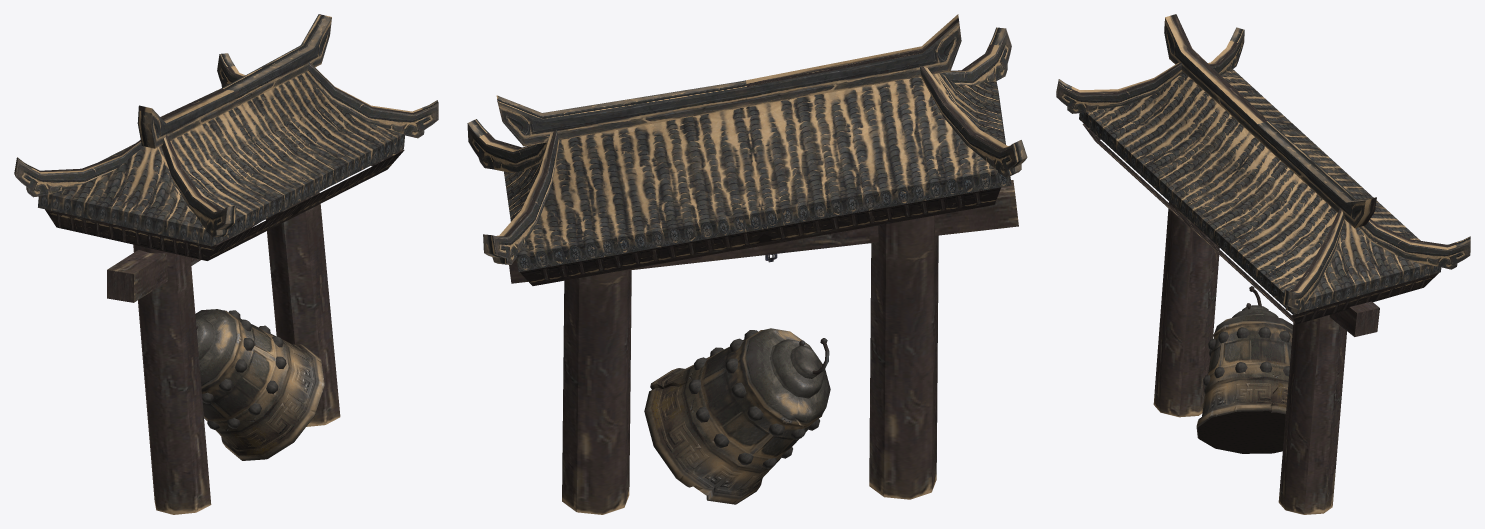
Rendered from sm_diaozhong_3.FBX.
3 views of the same model, side by side, from view 1: azimuth 30°, elevation 25°; view 2: azimuth 150°, elevation 25°; view 3: azimuth 270°, elevation 25° (orthographic). The views are drawn at different scales.
Visible parts, largest first — view 1: sm_diaozhong_3; view 2: sm_diaozhong_3; view 3: sm_diaozhong_3.
Boxes of the visible parts, bbox=[...] form: sm_diaozhong_3: bbox=[14, 14, 438, 514]; sm_diaozhong_3: bbox=[467, 14, 1027, 514]; sm_diaozhong_3: bbox=[1056, 14, 1470, 514].
Size of the model in its own units: 794 by 709 by 691.
